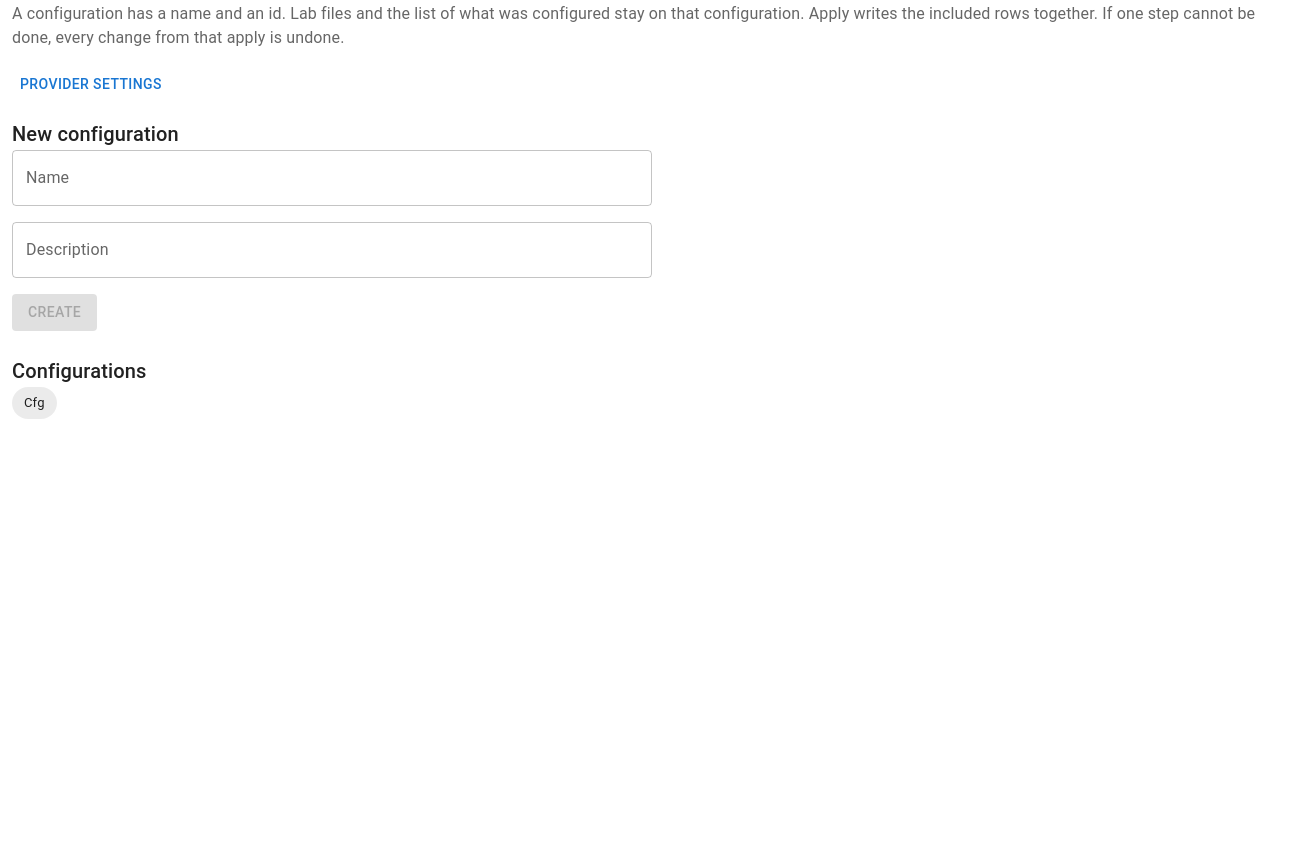
Test case: G5: rows show before and after; a rerun row says no change
The image size is (1304, 848).
Click the button "Cfg": coordinates (34, 403) [12, 387, 57, 419]
(page scrolled)
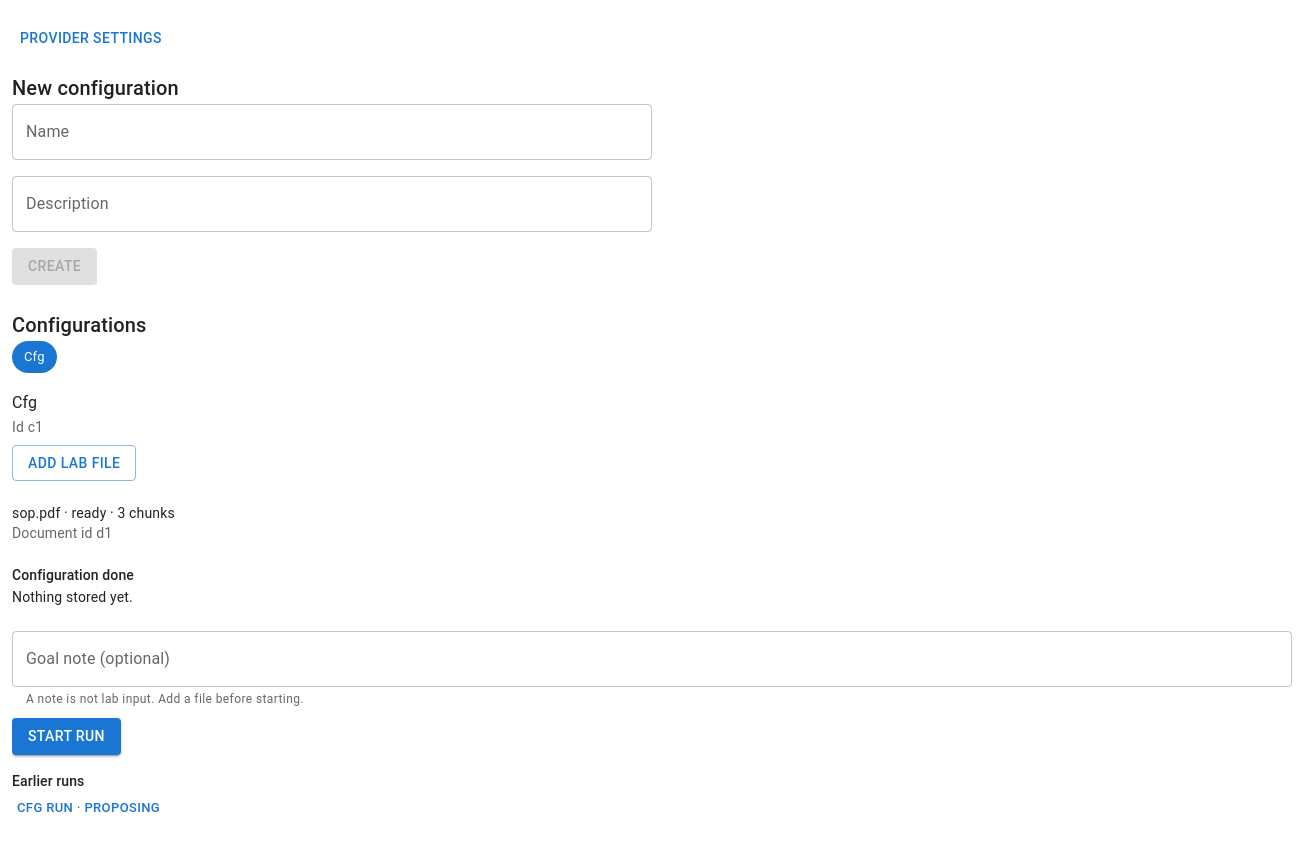
Click the button "Cfg run · proposing": coordinates (89, 808) [12, 793, 165, 824]
(page scrolled)
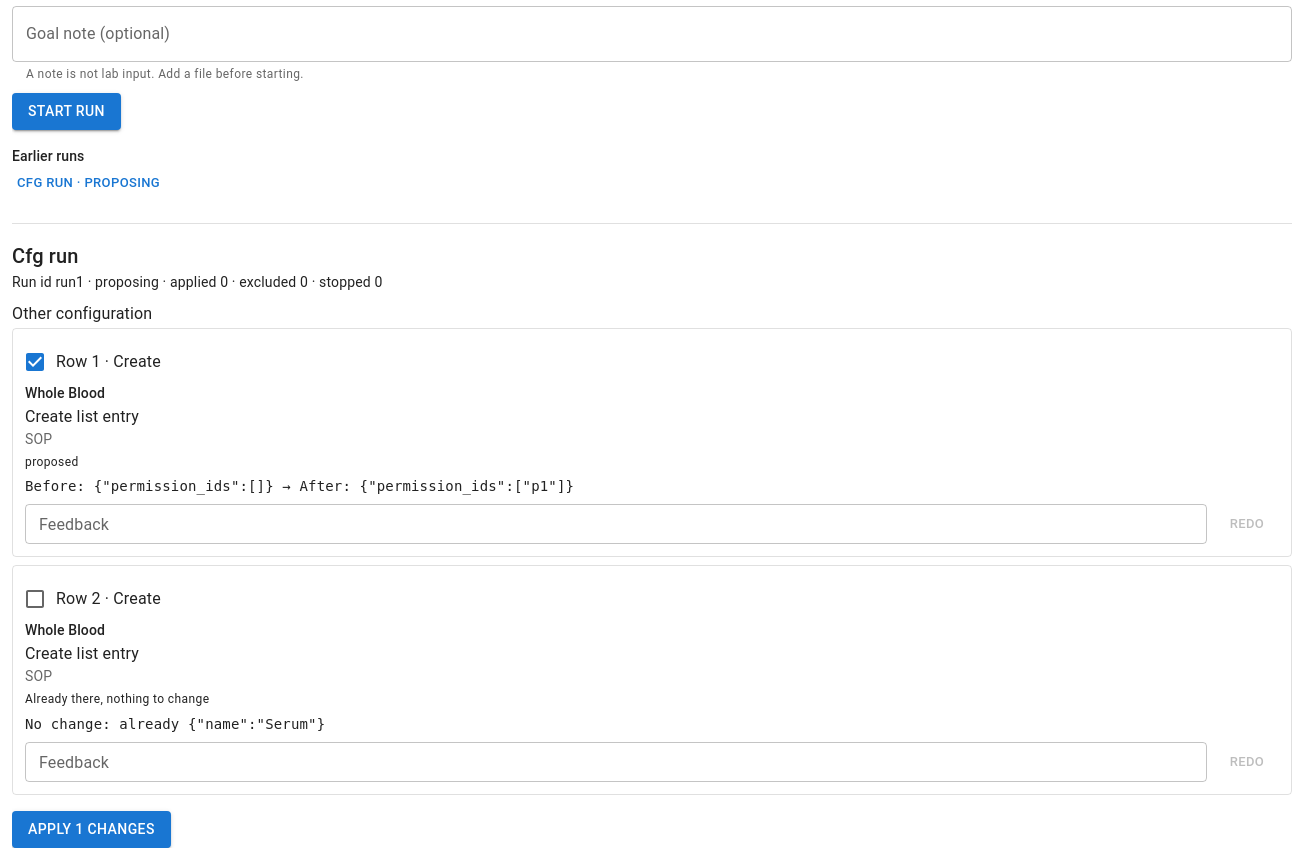
Expected: the text "Run id run1 · proposing · applied 0 · excluded 0 · stopped 0" is shown, [12, 274, 382, 290]
Expected: the text with test id "diff-0" reads "Before: {\"permission_ids\":[]} → After: {\"permission_ids\":[\"p1\"]}", [25, 478, 574, 494]
Expected: the text with test id "diff-1" reads "No change: already {\"name\":\"Serum\"}", [25, 716, 325, 732]
